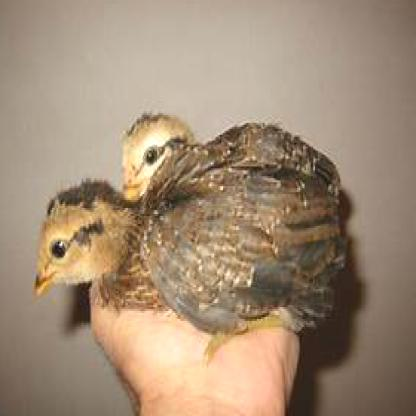chicken: (120, 109, 346, 362), (33, 174, 153, 313)
